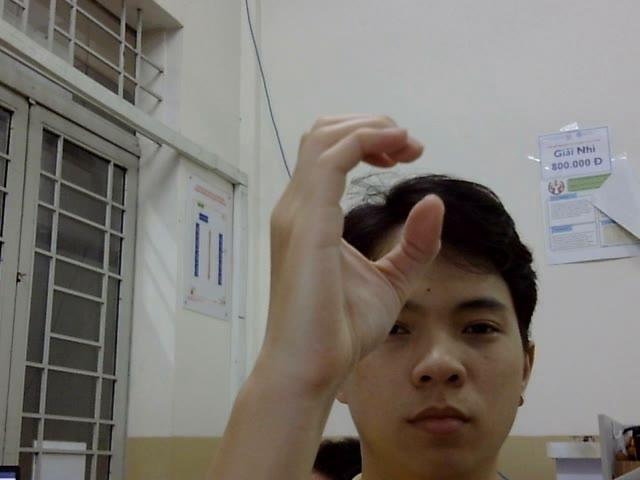C: (261, 109, 443, 386)
